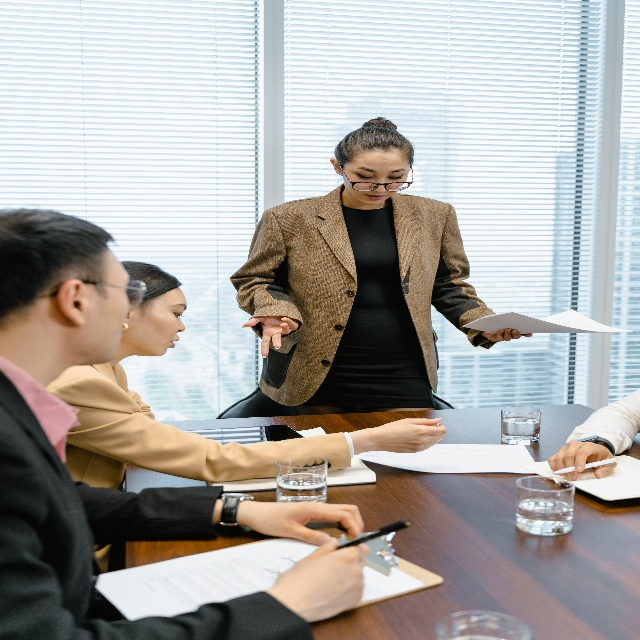Gafas: (49, 266, 146, 308), (338, 161, 415, 194)
Sin_guantes: (273, 536, 371, 622), (253, 497, 365, 551), (372, 411, 447, 456), (547, 435, 618, 481), (241, 312, 301, 360), (484, 326, 533, 342)
